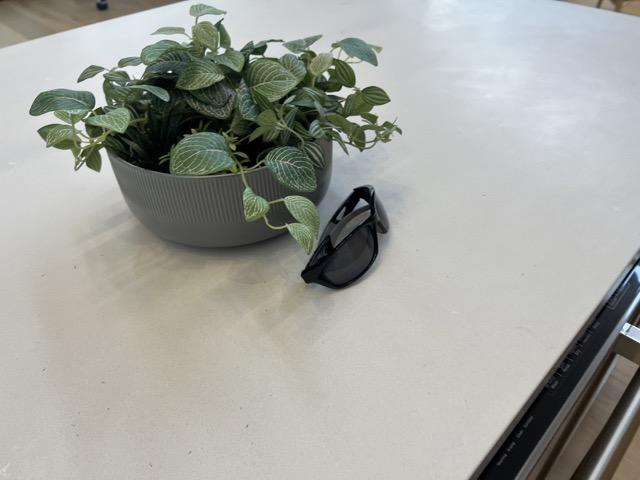Sunglasses: (300, 184, 391, 292)
